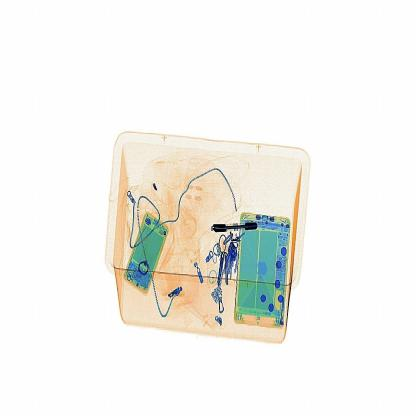knife: (202, 212, 260, 244)
